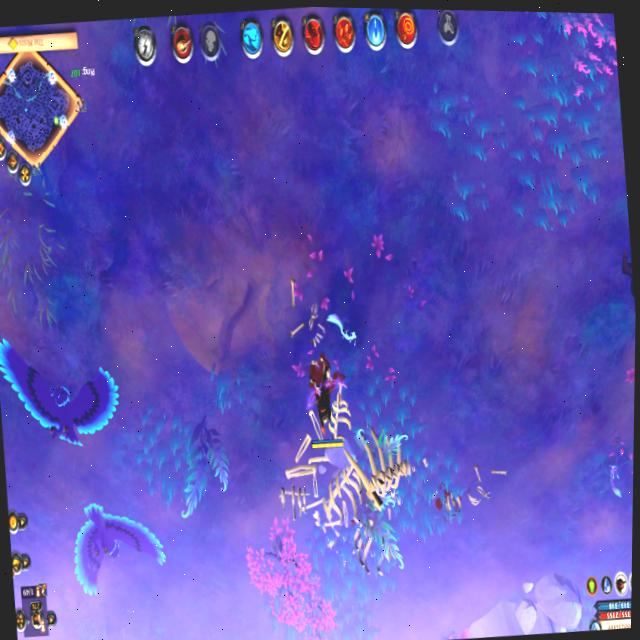mob: (0, 324, 127, 458), (64, 491, 171, 604)
